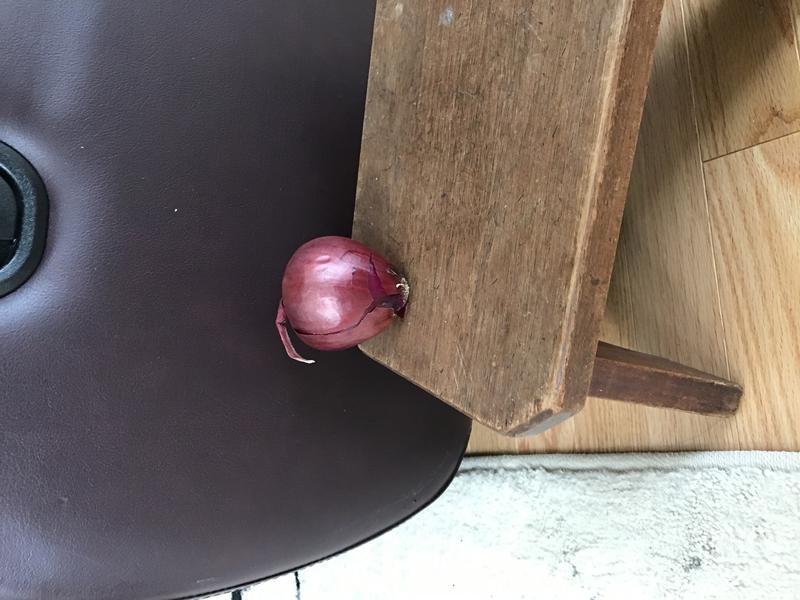purple_onion: (268, 224, 428, 377)
